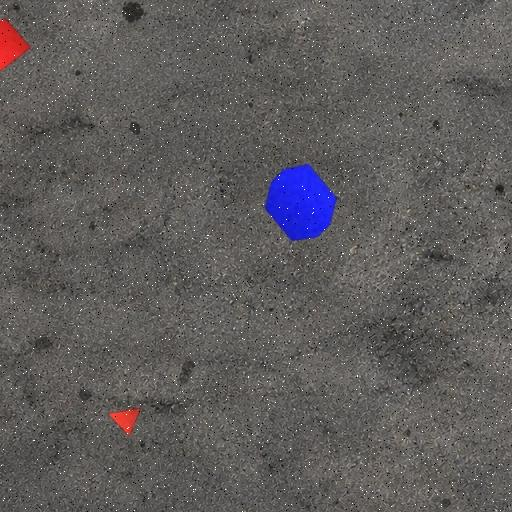RED_SQUARE: (0, 17, 31, 73)
